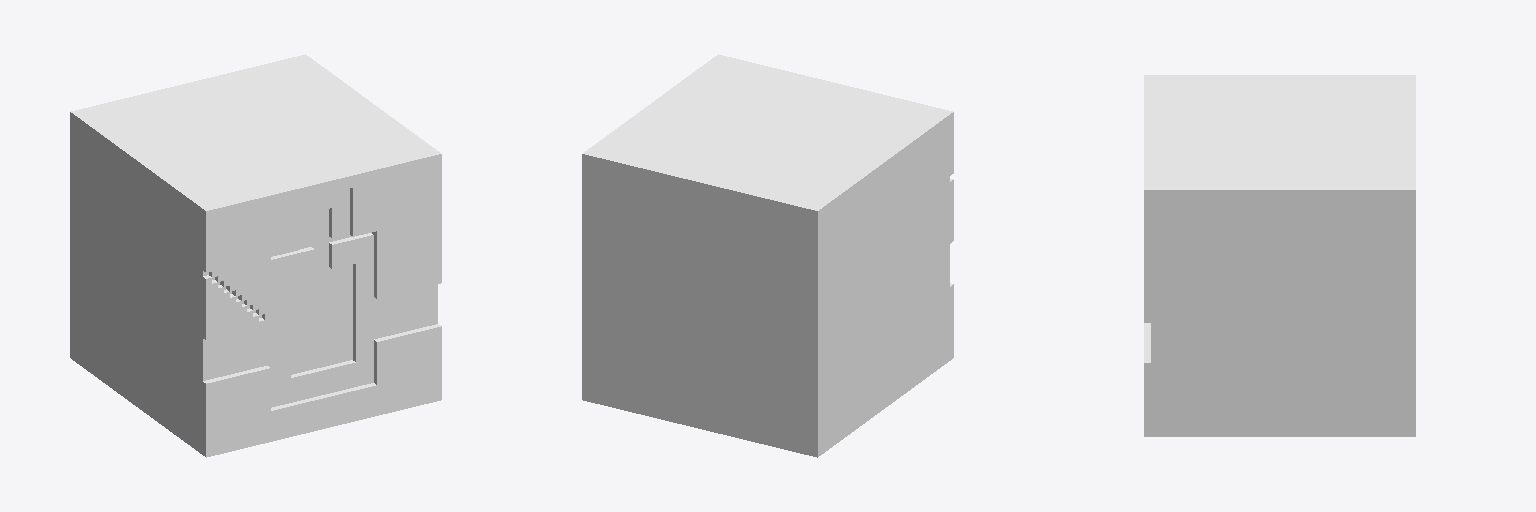
Rendered from cubic.obj.
3 renders of one model, left to right at view 1: azimuth 30°, elevation 25°; view 2: azimuth 150°, elevation 25°; view 3: azimuth 270°, elevation 25°, orthographic.
Visible parts, largest first — view 1: object 1; view 2: object 1; view 3: object 1.
Part boxes in pixels (x1,y1,x2,y2): object 1: (70, 54, 441, 457); object 1: (582, 54, 953, 457); object 1: (1144, 75, 1415, 436).
Size of the model in its own units: 4 by 4 by 4.